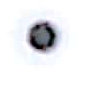cancer: (10, 5, 72, 69)
